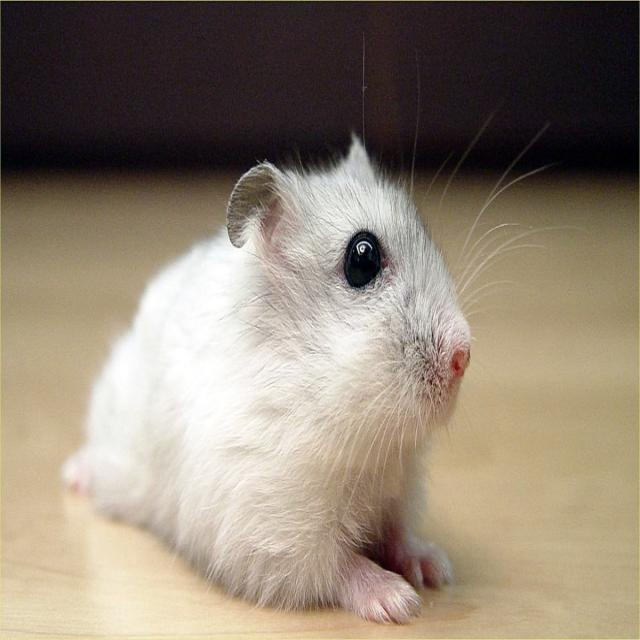hamster: (63, 136, 470, 623)
